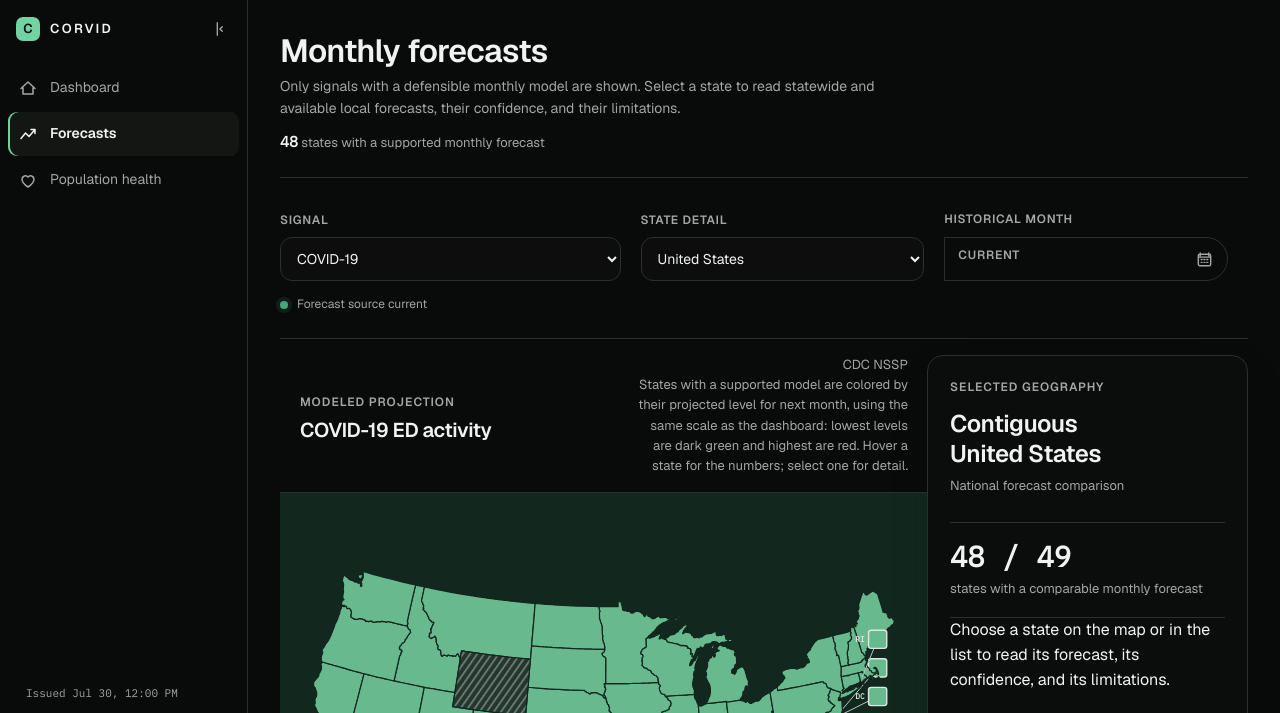
it: ForecastsPage (monthly state-level, supported only) › says a state is unavailable rather than inventing a value when the estimate is missing
Select "Wyoming" in the dropdown named "Forecast state" at [782, 259], box [640,237,924,281]
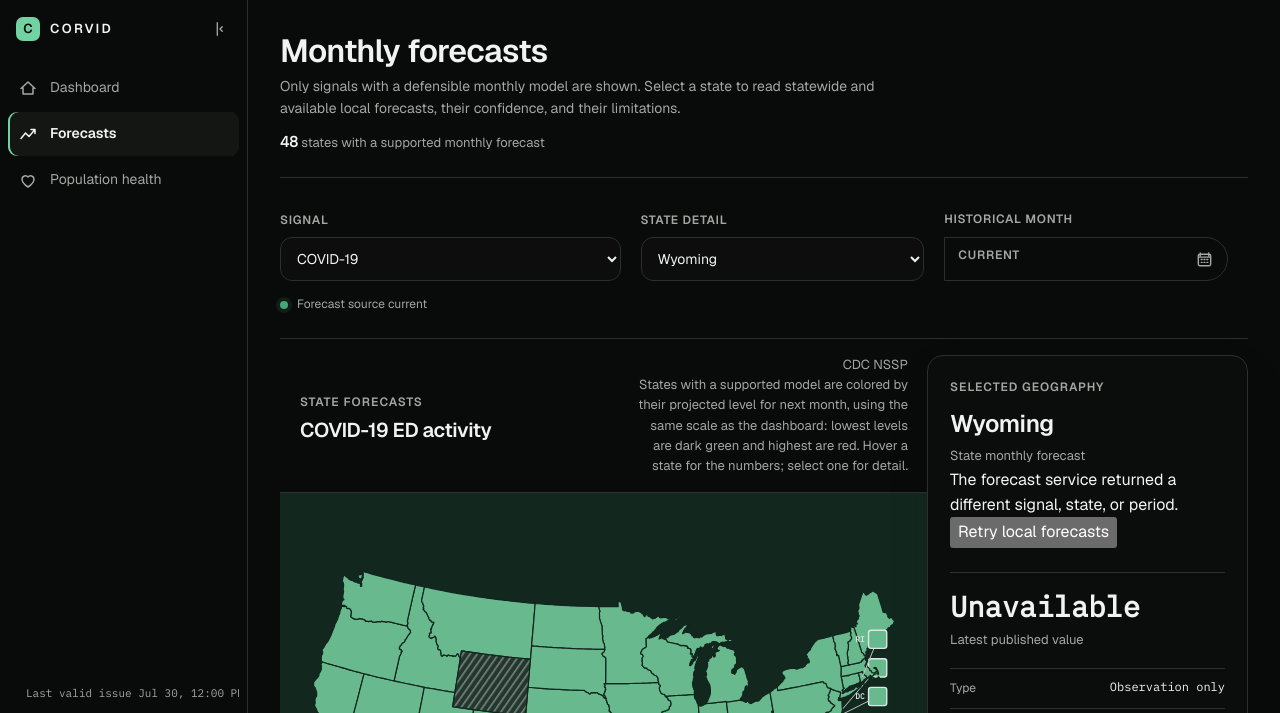
Expected: the heading "Wyoming" is shown, [950,408,1054,439]
Expected: the 1st text "Unavailable" is shown, [950,587,1140,625]
